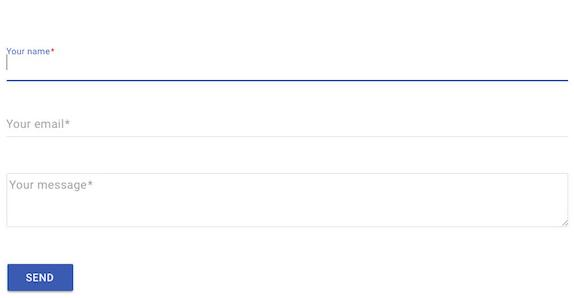button: (5, 262, 74, 293)
field: (4, 172, 570, 229)
field_line: (4, 46, 571, 82), (3, 115, 570, 139)
